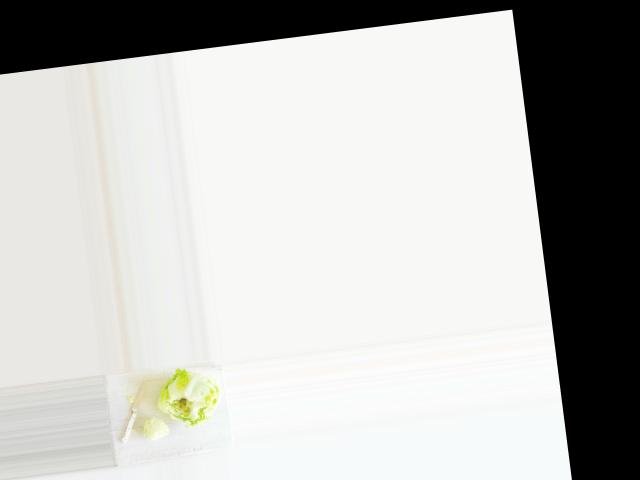lettuce: (159, 365, 229, 429)
